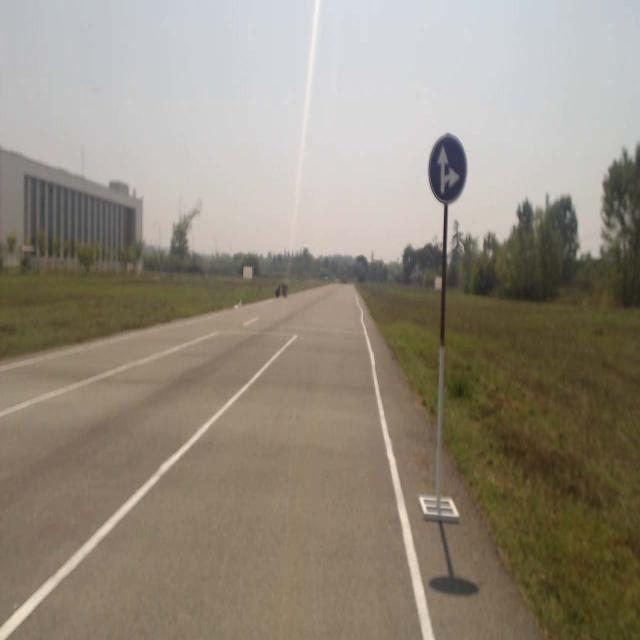ilerisag: (427, 134, 467, 201)
